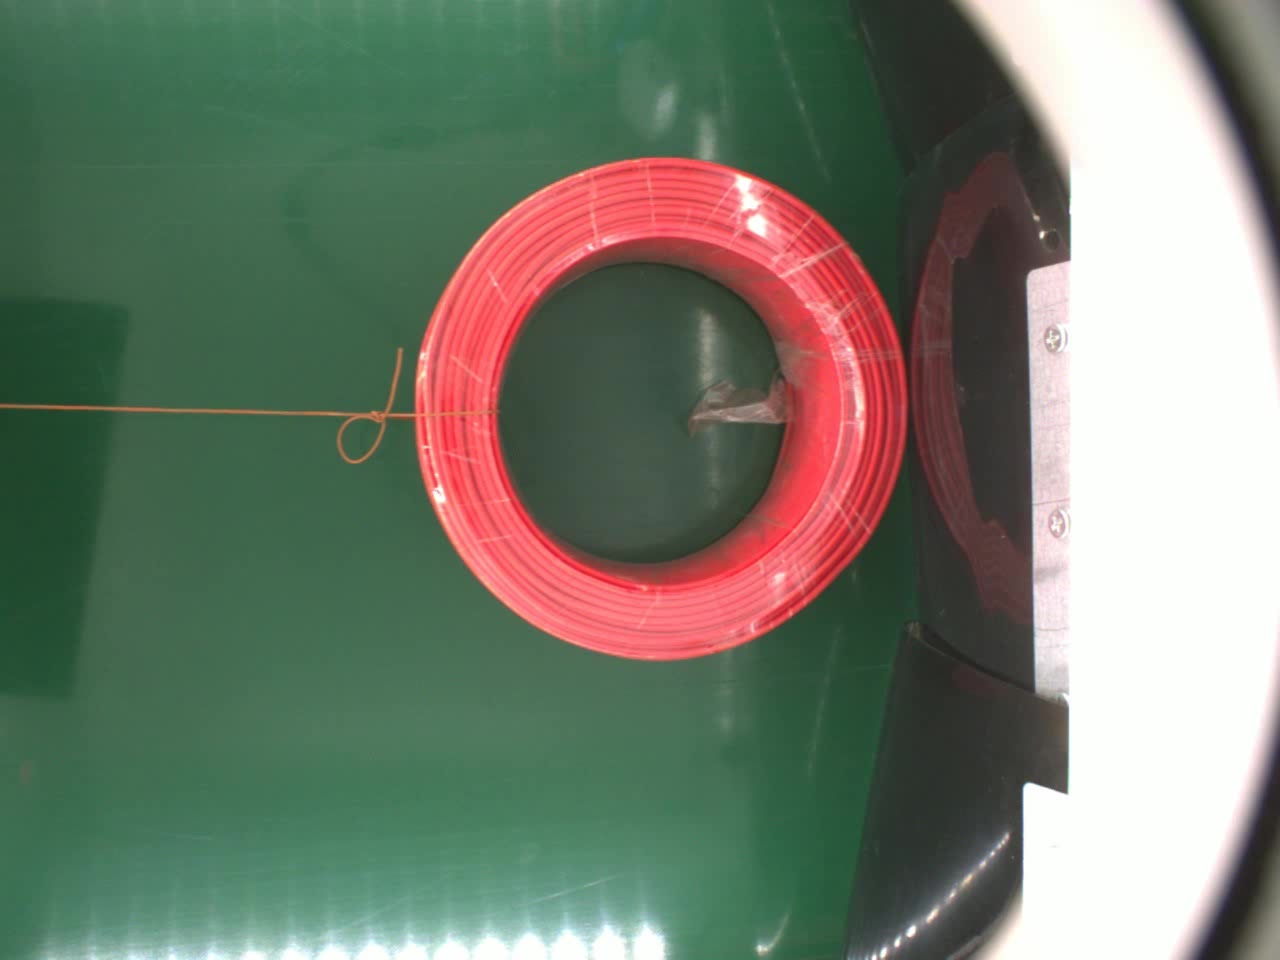red: (412, 153, 912, 666)
